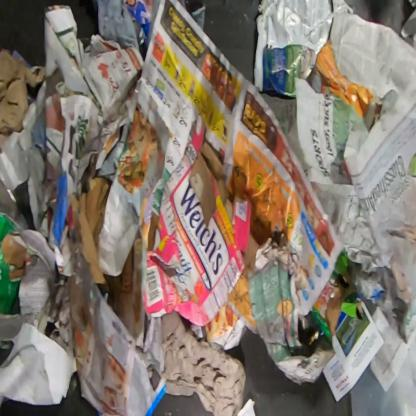cardboard: (142, 113, 261, 328), (306, 38, 382, 133), (0, 212, 32, 316)
